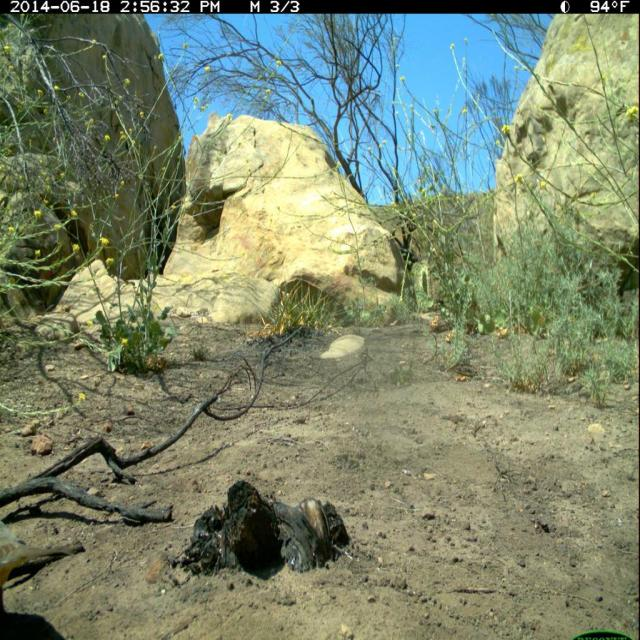bird: (3, 522, 84, 613)
